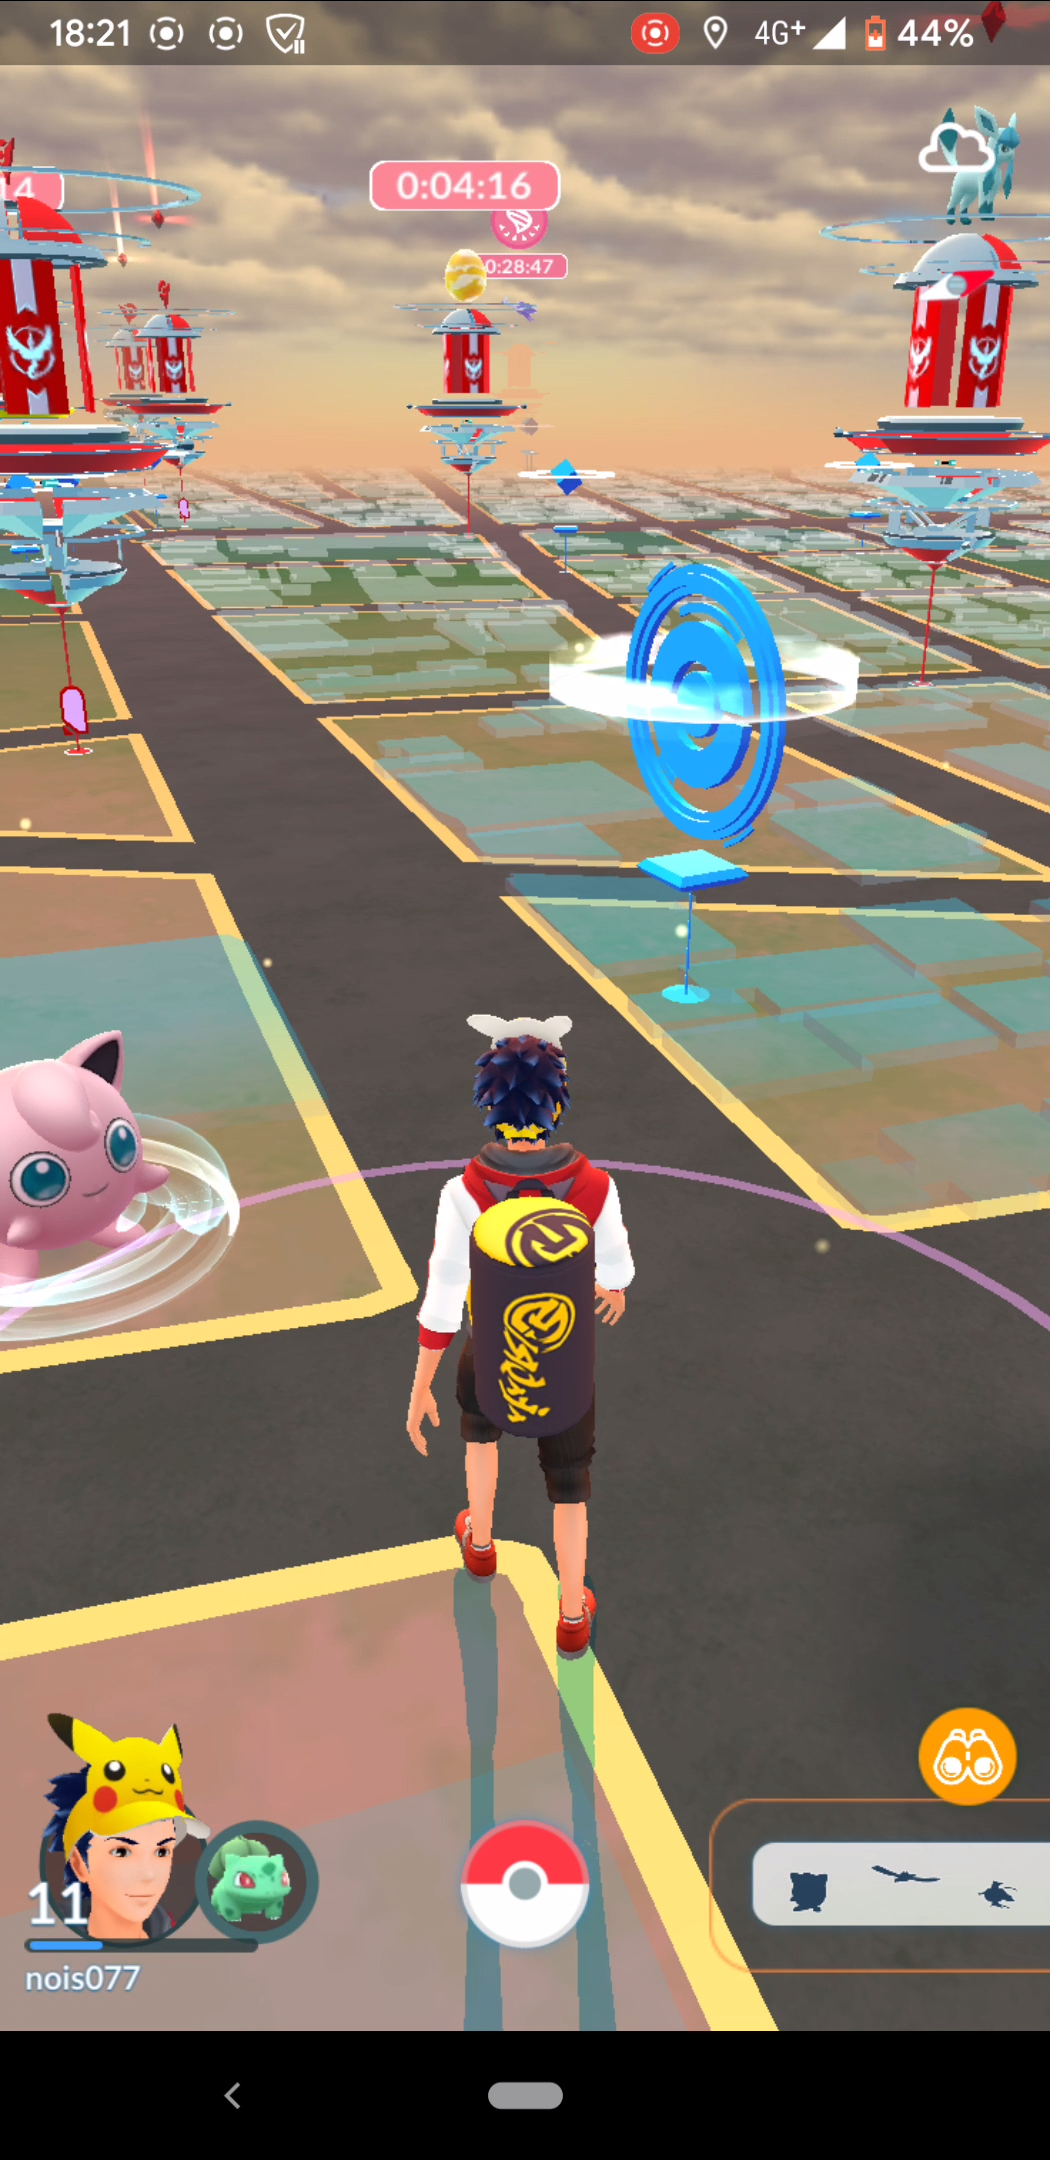pokestop: (623, 557, 785, 849)
